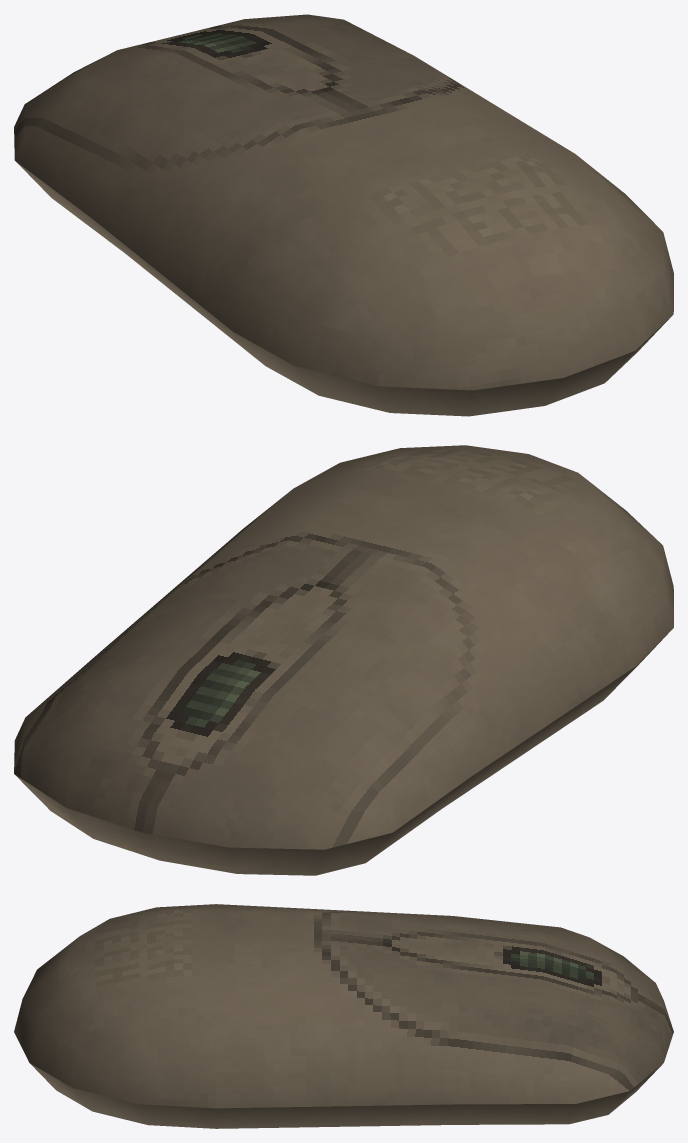
The model's file is pc_mouse_mp_2.glb.
The picture shows the model from 3 angles, top to bottom: view 1: azimuth 30°, elevation 25°; view 2: azimuth 150°, elevation 25°; view 3: azimuth 270°, elevation 25°; orthographic projection. The views are drawn at different scales.
Parts seen in each view (by area): view 1: pc_mouse_mp_2; view 2: pc_mouse_mp_2; view 3: pc_mouse_mp_2.
Boxes of the visible parts, left/top/right/bottom form: pc_mouse_mp_2: left=14, top=14, right=673, bottom=416; pc_mouse_mp_2: left=14, top=445, right=673, bottom=875; pc_mouse_mp_2: left=14, top=904, right=673, bottom=1128.
Bounding box in the file's own units: 0.0809 × 0.0315 × 0.1475.
Materials: 1 (1 with a texture image).
